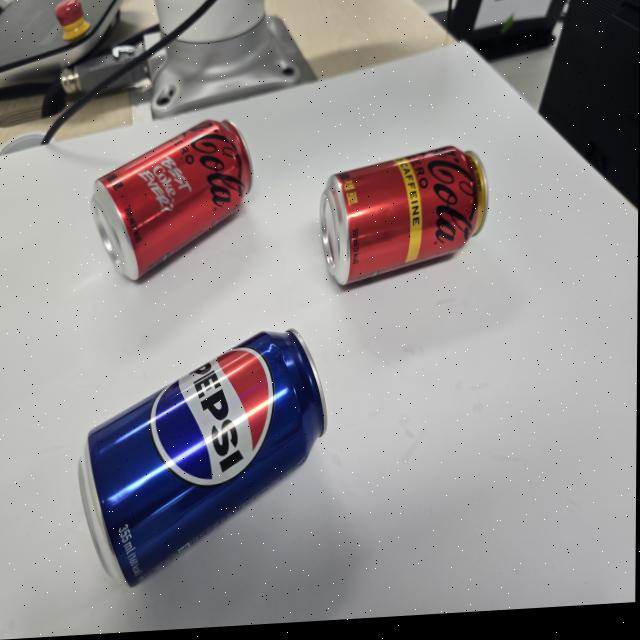can_coke_decaf: (320, 146, 487, 285)
can_coke_zero: (92, 120, 252, 280)
can_pepsi: (69, 328, 331, 586)
